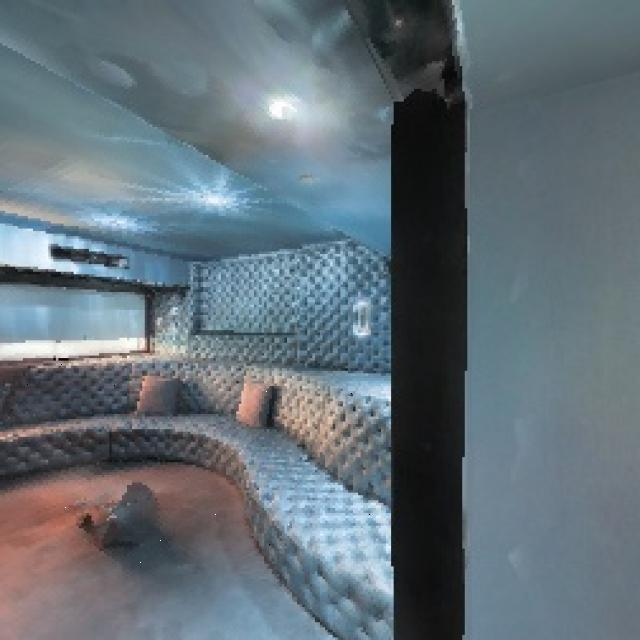sofa: (0, 360, 371, 572)
